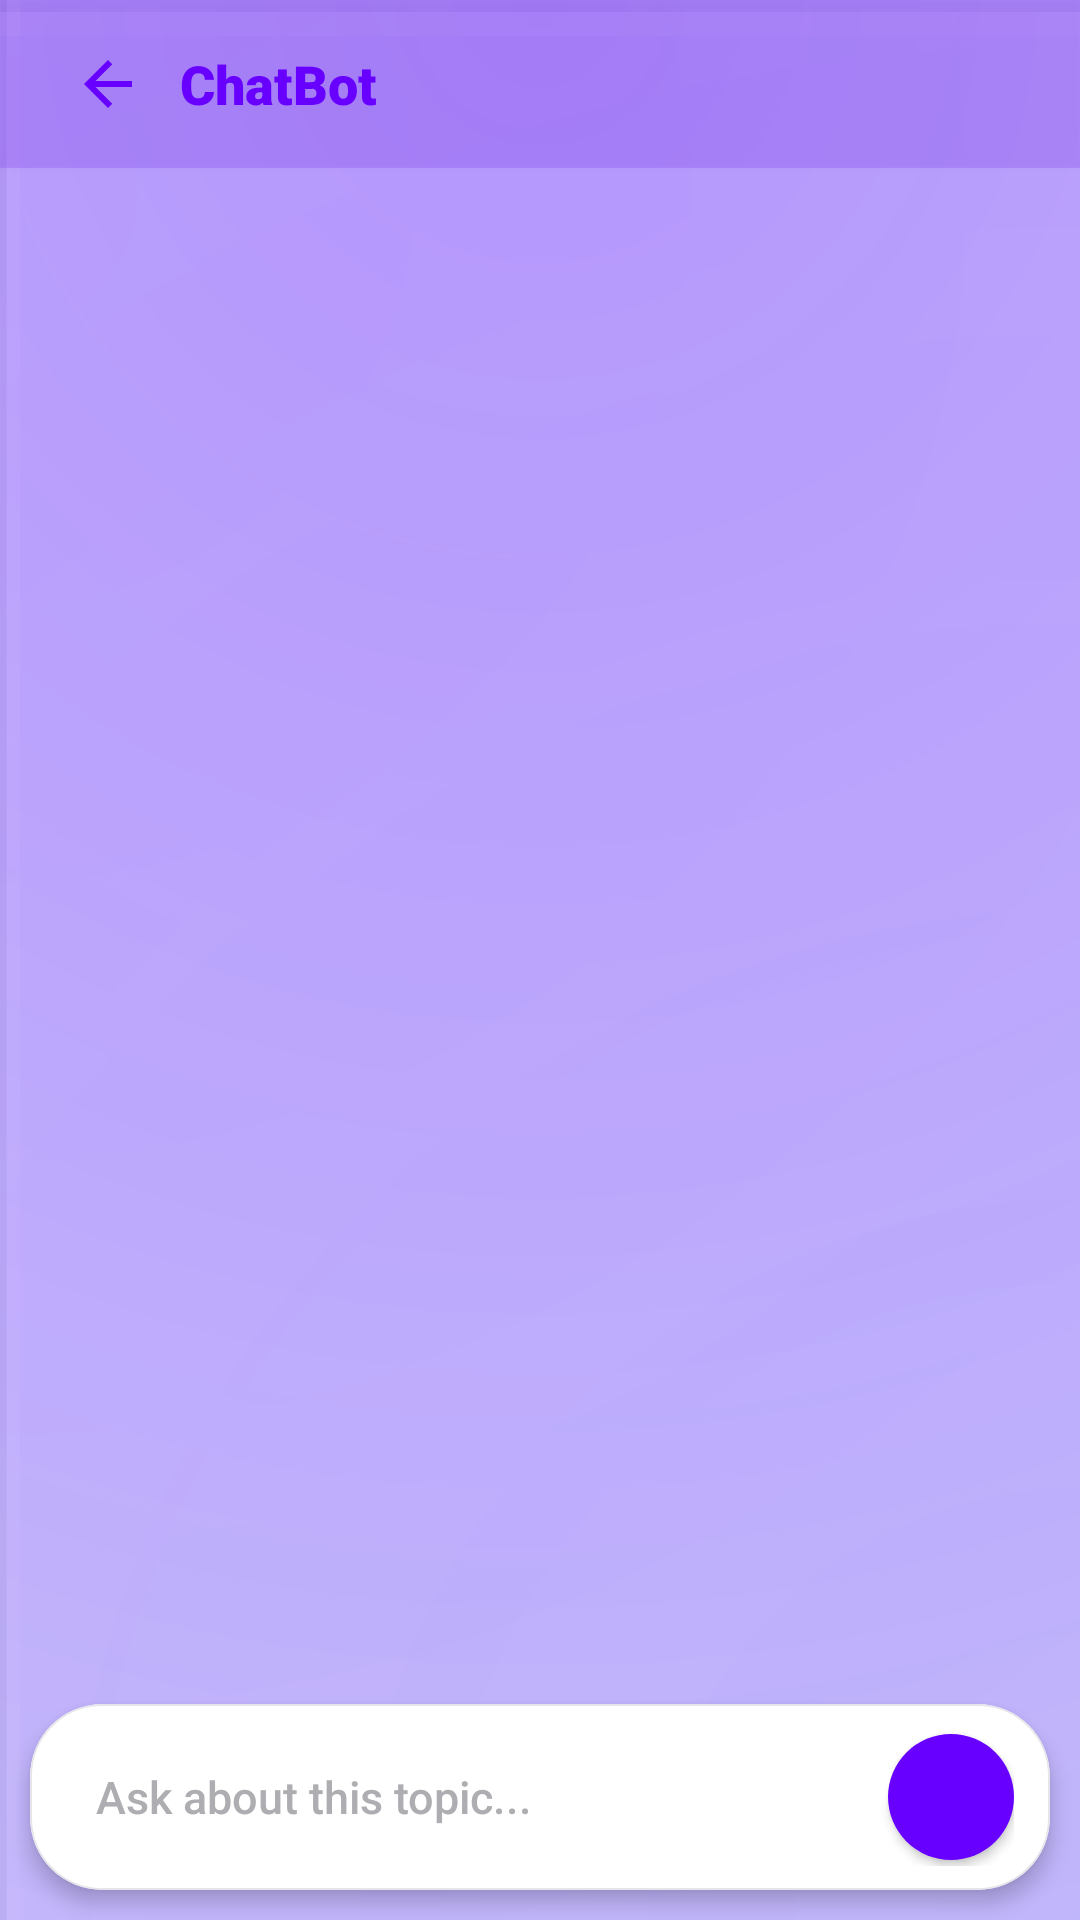

Icon click points for this 1080px x 1920px phone screenshot, format (x=x, y=y):
Back: (x=108, y=84)
